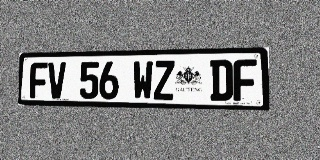5: (80, 62, 99, 99)
6: (99, 61, 119, 99)
D: (210, 60, 233, 101)
F: (233, 59, 257, 101), (30, 62, 48, 98)
V: (48, 62, 66, 99)
W: (133, 61, 153, 100)
Z: (154, 60, 174, 100)
